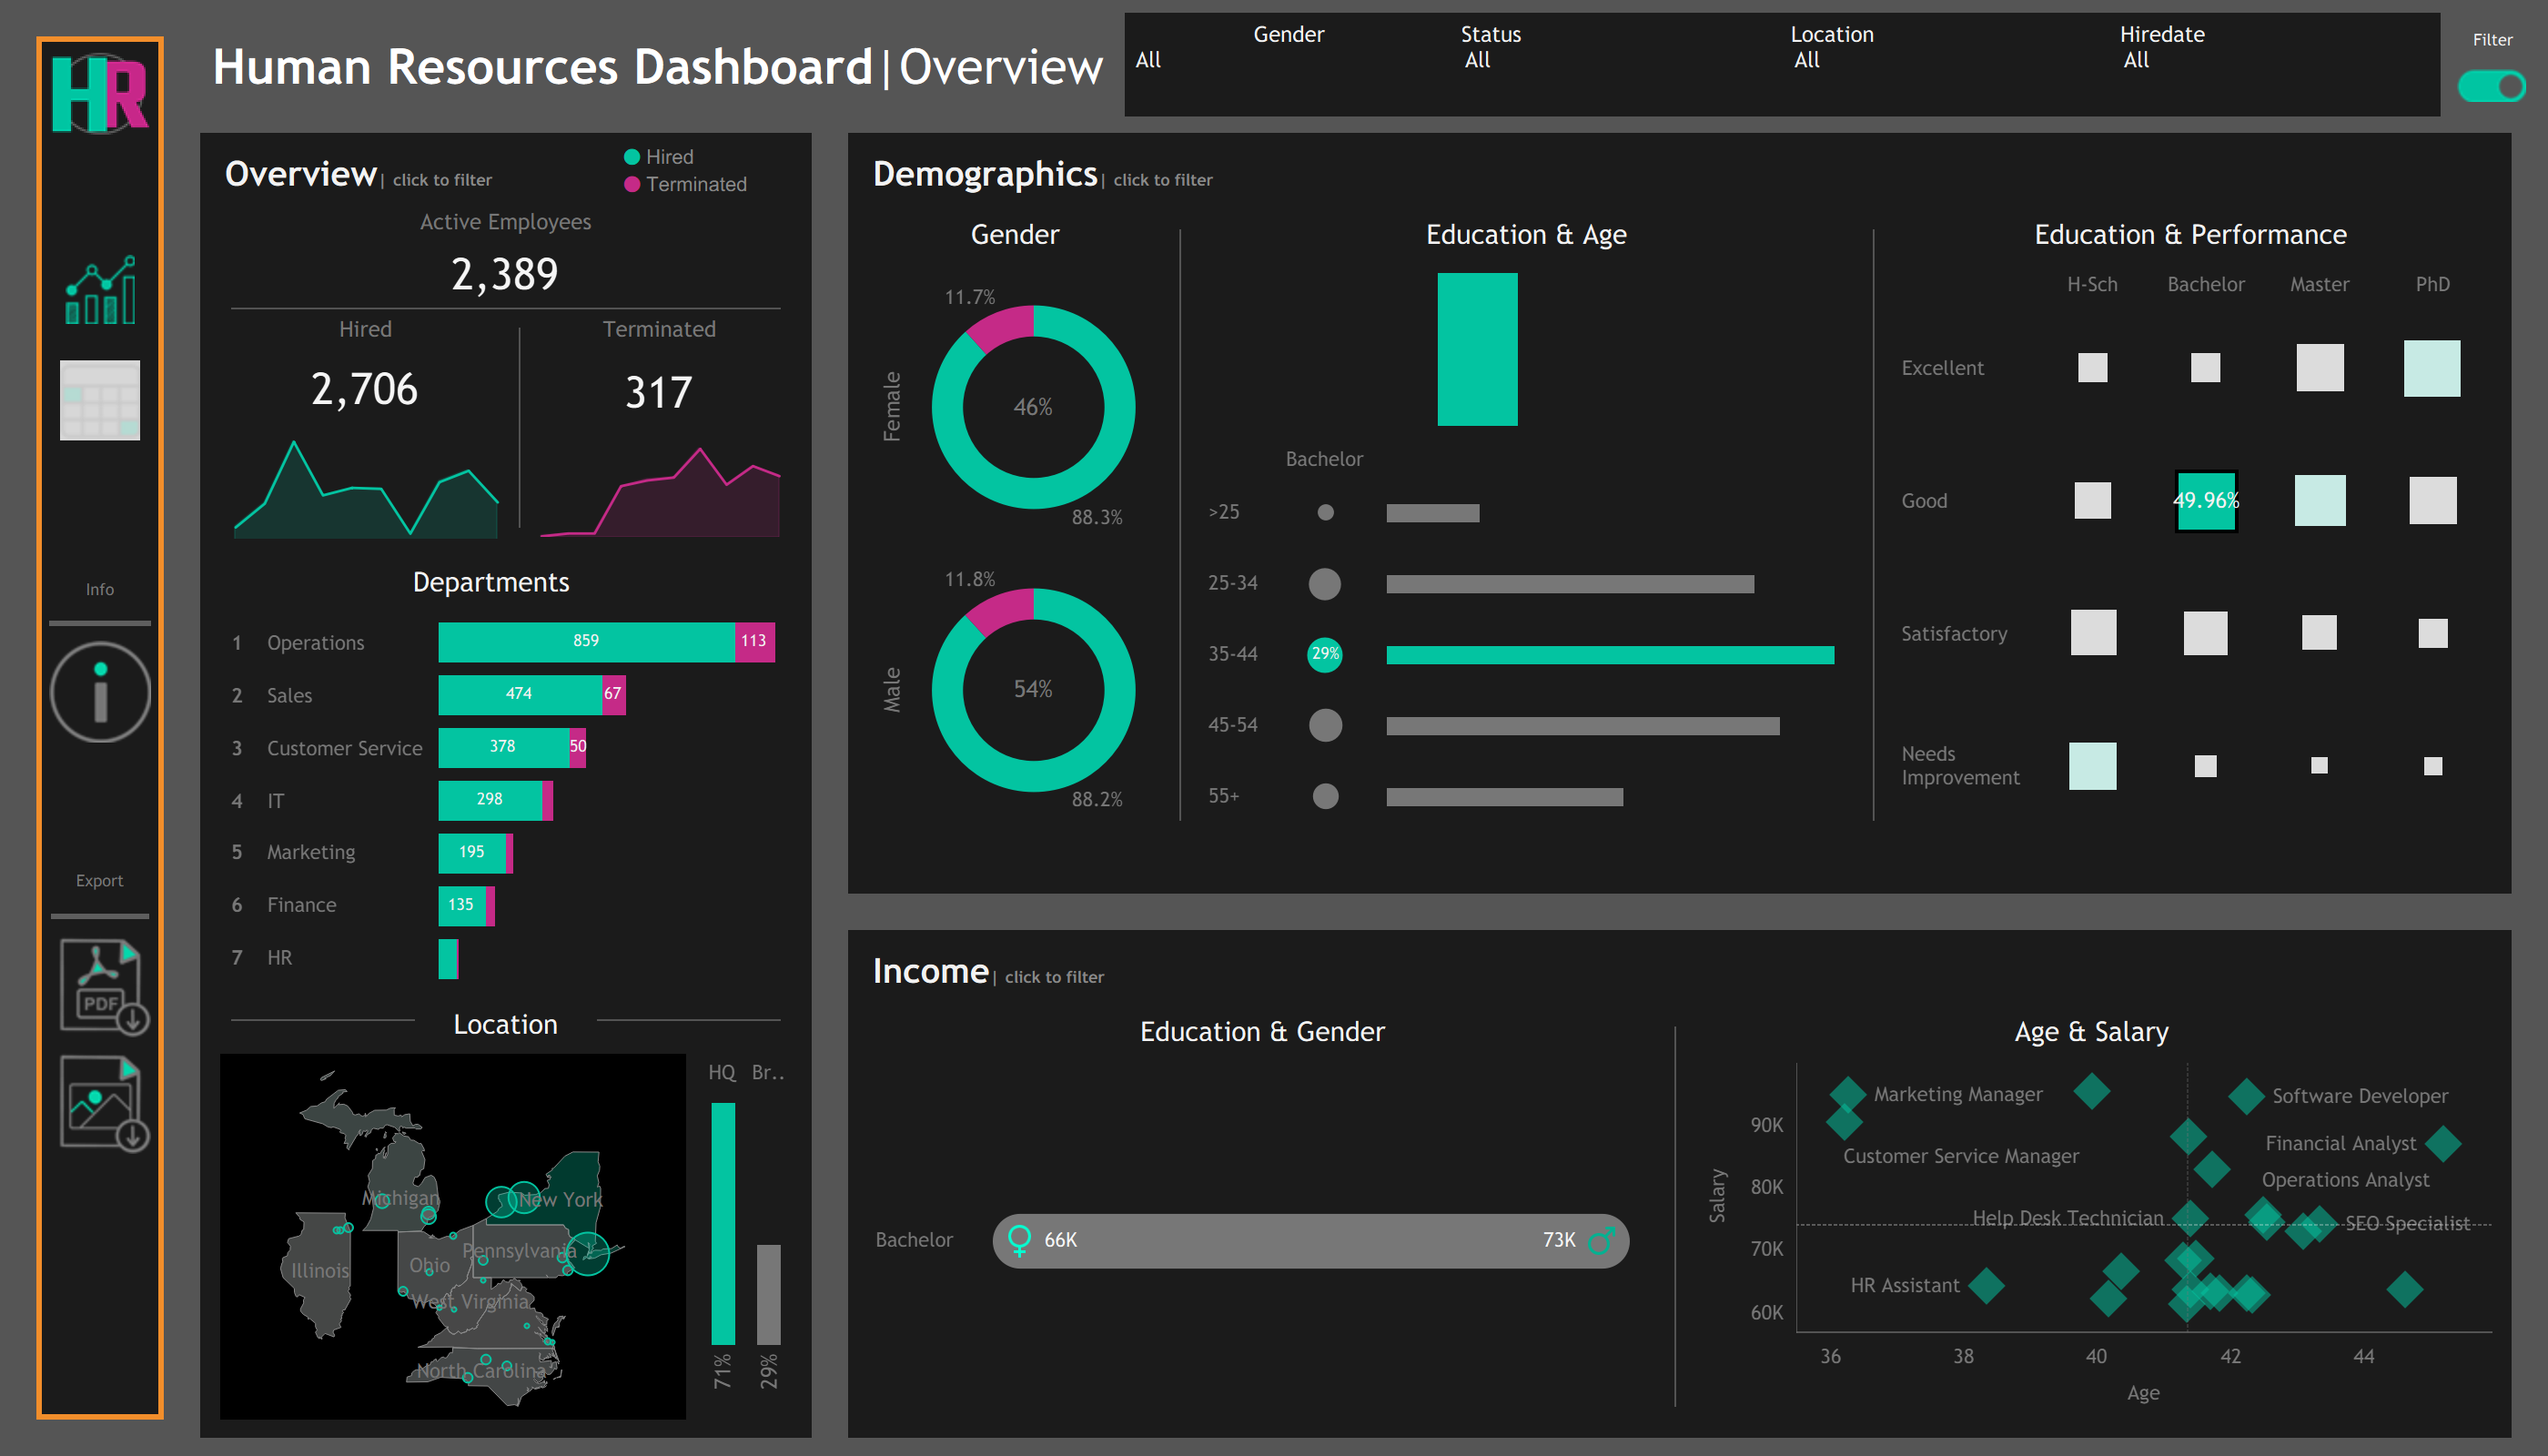

The page's visual inventory and layout, read from the dashboard file:
{"tool":"tableau","page":{"name":"HR Summary","canvas":[1400,800],"ordinal":0},"visuals":[{"type":"text","box":[110,0,1270,73]},{"type":"filter","title":"Departments","param":"[federated.0zi4hii09b29ug1an5t9f0889x5z].[none:Gender:nk]","box":[618,7,181,57]},{"type":"filter","title":"Gender vs Education","param":"[federated.0zi4hii09b29ug1an5t9f0889x5z].[none:Calculation_0863121748234250:nk]","box":[799,7,181,57]},{"type":"filter","title":"Gender vs Education","param":"[federated.0zi4hii09b29ug1an5t9f0889x5z].[none:Calculation_0863121663229957:nk]","box":[980,7,181,57]},{"type":"filter","title":"Gender vs Education","param":"[federated.0zi4hii09b29ug1an5t9f0889x5z].[yr:Hiredate:ok]","box":[1161,7,180,57]},{"type":"text","box":[1343,10,54,25]},{"type":"image","param":"Image/Logo.png","box":[23,23,64,57]},{"type":"dashboard-object","box":[1350,26,38,43]},{"type":"blank","box":[23,80,64,60]},{"type":"text","box":[117,80,322,31]},{"type":"text","box":[340,80,100,30]},{"type":"text","box":[473,80,900,31]},{"type":"text","box":[117,111,322,22]},{"type":"text","box":[473,116,170,26]},{"type":"blank","box":[648,116,1,345]},{"type":"text","box":[654,116,370,26]},{"type":"blank","box":[1029,116,1,345]},{"type":"text","box":[1035,116,338,26]},{"type":"worksheet","title":"BAN Active","mark":"Text","box":[117,133,322,36]},{"type":"dashboard-object","box":[23,140,64,38]},{"type":"worksheet","title":"Gender","mark":"Pie","rows":["Gender"],"cols":["Calculation_0863121667284999","Calculation_0863121667284999"],"box":[473,142,170,319]},{"type":"worksheet","title":"Education Levels","mark":"Bar","rows":["Calculation_0863121654640640"],"cols":["Education Level"],"box":[654,142,370,96]},{"type":"worksheet","title":"Education vs performance","mark":"Square","rows":["Performance Rating"],"cols":["Education Level"],"box":[1035,142,338,319]},{"type":"blank","box":[117,169,322,1]},{"type":"text","box":[117,170,168,22]},{"type":"blank","box":[285,170,1,130]},{"type":"text","box":[286,170,152.9,22]},{"type":"blank","box":[23,178,64,10]},{"type":"dashboard-object","box":[23,188,64,64]},{"type":"worksheet","title":"BAN Hired","mark":"Text","box":[117,192,168,43]},{"type":"worksheet","title":"BAN Terminated","mark":"Text","box":[286,192,152.9,47]},{"type":"worksheet","title":"Hired By Year","mark":"Line","rows":["Calculation_0863121654640640","Calculation_0863121654640640"],"cols":["Hiredate"],"box":[117,235,168,65]},{"type":"worksheet","title":"Age Vs Education","mark":"Circle","rows":["Calculation_0863121669758985"],"cols":["Education Level"],"box":[654,238,104,223]},{"type":"worksheet","title":"Age Groups","mark":"Bar","rows":["Calculation_0863121669758985"],"cols":["Calculation_0863121654640640"],"box":[758,238,266,223]},{"type":"worksheet","title":"Terminated By Year","mark":"Line","rows":["Calculation_0863121654894593","Calculation_0863121654894593"],"cols":["Termdate"],"box":[286,239,152.9,61]},{"type":"blank","box":[23,252,64,60]},{"type":"text","box":[90,266,1316,225]},{"type":"blank","box":[127,305,93,30]},{"type":"text","box":[220,305,100.5,30]},{"type":"blank","box":[320.5,305,108.5,30]},{"type":"text","box":[23,312,64,25]},{"type":"worksheet","title":"Departments","mark":"Bar","rows":["Calculation_0863121661915140","Department"],"cols":["Calculation_0863121654640640"],"box":[117,335,322,210]},{"type":"blank","box":[23,337,64,11]},{"type":"dashboard-object","box":[23,348,64,64]},{"type":"blank","box":[23,412,64,60]},{"type":"text","box":[23,472,64,25]},{"type":"blank","box":[90,491,1316,305]},{"type":"blank","box":[23,497,64,13]},{"type":"dashboard-object","box":[23,510,64,64]},{"type":"text","box":[473,518,900,31]},{"type":"blank","box":[127,545,100.7,30]},{"type":"text","box":[227.7,545,100.7,30]},{"type":"blank","box":[328.3,545,100.7,30]},{"type":"text","box":[473,554,442,26]},{"type":"blank","box":[920,554,1,229]},{"type":"text","box":[926,554,447,26]},{"type":"dashboard-object","box":[23,574,64,64]},{"type":"worksheet","title":"Maps States","mark":"Automatic","box":[117,575,263,208]},{"type":"worksheet","title":"Location","mark":"Bar","rows":["Calculation_0863121654640640"],"cols":["Calculation_0863121663229957","Calculation1"],"box":[380,575,59,208]},{"type":"worksheet","title":"Gender vs Education","mark":"Square","rows":["Education Level"],"cols":["Salary","Salary"],"box":[473,580,442,203]},{"type":"worksheet","title":"Age vs Salary","mark":"Shape","rows":["Salary"],"cols":["Calculation_0863121669148680"],"box":[926,580,447,203]},{"type":"blank","box":[23,638,64,60]}]}

Visuals, with their boxes in screenshot pixels (x1, y1, x2, y2), scaled from the page's 1400x800 canvas onto the 2548x1456 screenshot:
text: 200, 0, 2512, 133
"Departments" filter: 1125, 13, 1454, 116
"Gender vs Education" filter: 1454, 13, 1784, 116
"Gender vs Education" filter: 1784, 13, 2113, 116
"Gender vs Education" filter: 2113, 13, 2441, 116
text: 2444, 18, 2543, 64
image: 42, 42, 158, 146
dashboard-object: 2457, 47, 2526, 126
blank: 42, 146, 158, 255
text: 213, 146, 799, 202
text: 619, 146, 801, 200
text: 861, 146, 2499, 202
text: 213, 202, 799, 242
text: 861, 211, 1170, 258
blank: 1179, 211, 1181, 839
text: 1190, 211, 1864, 258
blank: 1873, 211, 1875, 839
text: 1884, 211, 2499, 258
"BAN Active" worksheet (Text marks): 213, 242, 799, 308
dashboard-object: 42, 255, 158, 324
"Gender" worksheet (Pie marks): 861, 258, 1170, 839
"Education Levels" worksheet (Bar marks): 1190, 258, 1864, 433
"Education vs performance" worksheet (Square marks): 1884, 258, 2499, 839
blank: 213, 308, 799, 309
text: 213, 309, 519, 349
blank: 519, 309, 521, 546
text: 521, 309, 799, 349
blank: 42, 324, 158, 342
dashboard-object: 42, 342, 158, 459
"BAN Hired" worksheet (Text marks): 213, 349, 519, 428
"BAN Terminated" worksheet (Text marks): 521, 349, 799, 435
"Hired By Year" worksheet (Line marks): 213, 428, 519, 546
"Age Vs Education" worksheet (Circle marks): 1190, 433, 1380, 839
"Age Groups" worksheet (Bar marks): 1380, 433, 1864, 839
"Terminated By Year" worksheet (Line marks): 521, 435, 799, 546
blank: 42, 459, 158, 568
text: 164, 484, 2547, 894
blank: 231, 555, 400, 610
text: 400, 555, 583, 610
blank: 583, 555, 781, 610
text: 42, 568, 158, 613
"Departments" worksheet (Bar marks): 213, 610, 799, 992
blank: 42, 613, 158, 633
dashboard-object: 42, 633, 158, 750
blank: 42, 750, 158, 859
text: 42, 859, 158, 905
blank: 164, 894, 2547, 1449
blank: 42, 905, 158, 928
dashboard-object: 42, 928, 158, 1045
text: 861, 943, 2499, 999
blank: 231, 992, 414, 1046
text: 414, 992, 598, 1046
blank: 598, 992, 781, 1046
text: 861, 1008, 1665, 1056
blank: 1674, 1008, 1676, 1425
text: 1685, 1008, 2499, 1056
dashboard-object: 42, 1045, 158, 1161
"Maps States" worksheet: 213, 1046, 692, 1425
"Location" worksheet (Bar marks): 692, 1046, 799, 1425
"Gender vs Education" worksheet (Square marks): 861, 1056, 1665, 1425
"Age vs Salary" worksheet (Shape marks): 1685, 1056, 2499, 1425
blank: 42, 1161, 158, 1270
